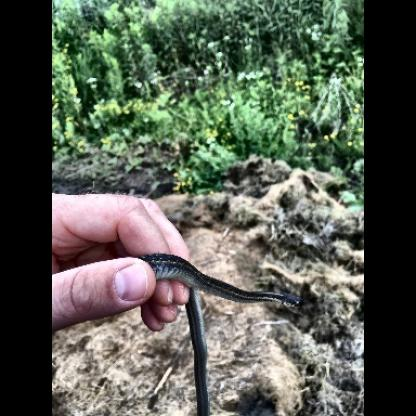Snake: (144, 245, 310, 313)
